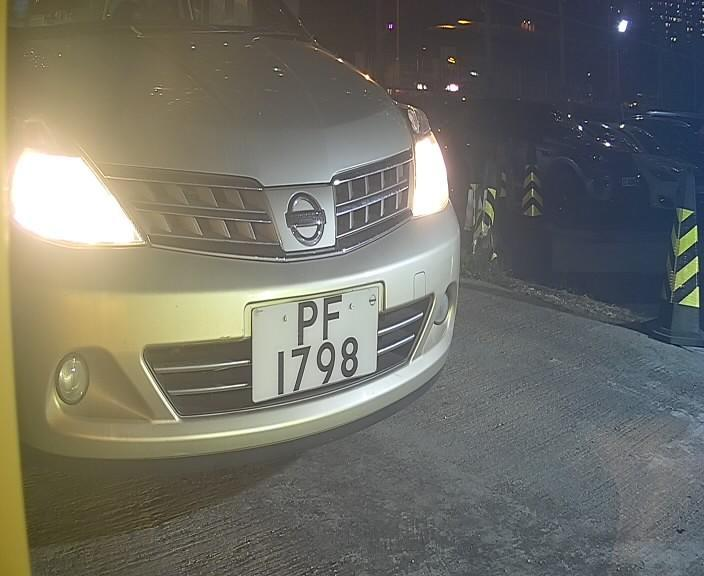Car: (10, 34, 554, 487)
License Plate: (243, 273, 387, 409)
